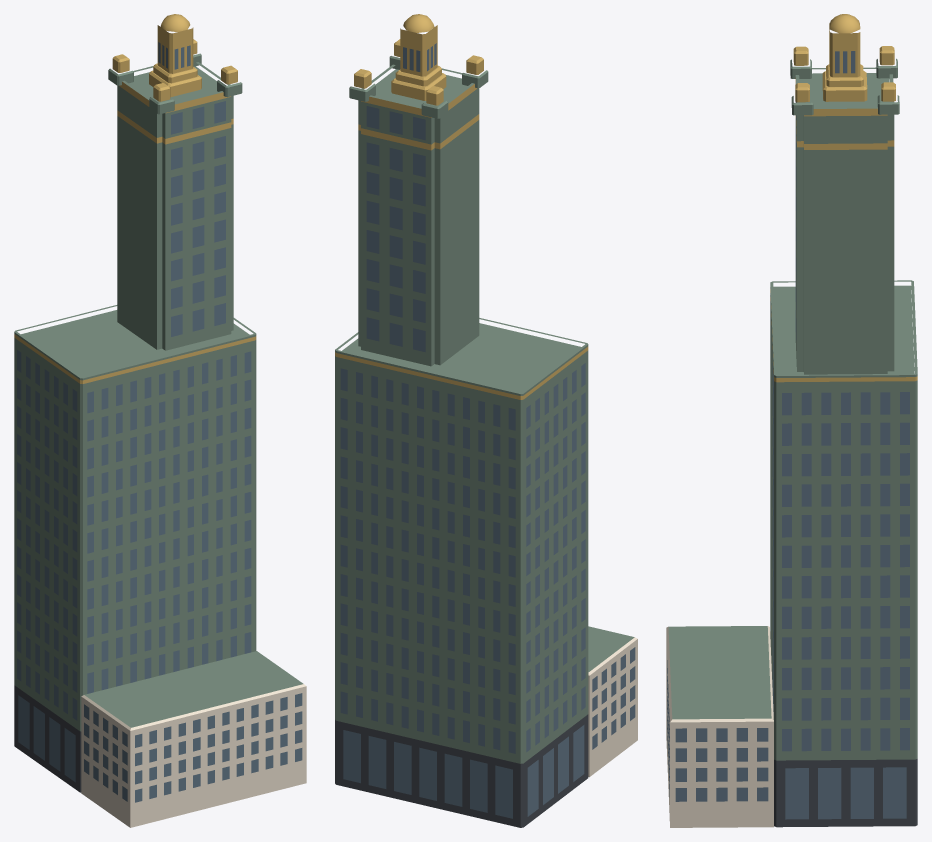
3 views of the same model, side by side, from view 1: azimuth 30°, elevation 25°; view 2: azimuth 150°, elevation 25°; view 3: azimuth 270°, elevation 25° (orthographic). The views are drawn at different scales.
Parts seen in each view (by area): view 1: carbide-carbon-building; view 2: carbide-carbon-building; view 3: carbide-carbon-building.
Part boxes in pixels (x1=…): carbide-carbon-building: x1=14, y1=14, x2=306, y2=827; carbide-carbon-building: x1=335, y1=14, x2=637, y2=827; carbide-carbon-building: x1=666, y1=14, x2=917, y2=827.
Bounding box in the file's own units: 40.36 × 153 × 44.48.
